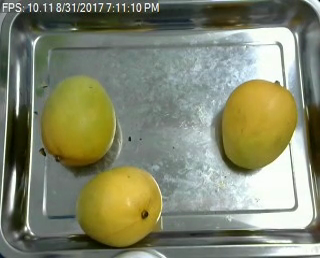Mango: (218, 76, 305, 176), (70, 164, 165, 244), (40, 75, 122, 166)
